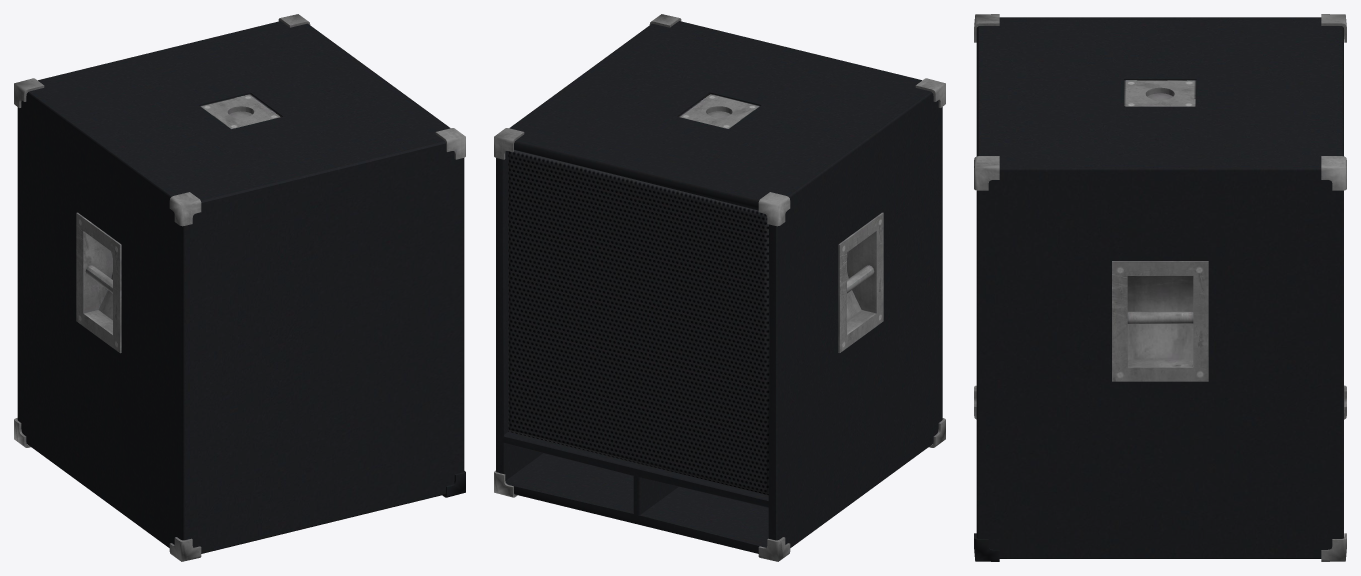
Rendered from Speakers02 (3).fbx.
3 renders of one model, left to right at view 1: azimuth 30°, elevation 25°; view 2: azimuth 150°, elevation 25°; view 3: azimuth 270°, elevation 25°, orthographic. The views are drawn at different scales.
Visible parts, largest first — view 1: Speakers02 (3); view 2: Speakers02 (3); view 3: Speakers02 (3).
Part boxes in pixels (bbox=[...]): Speakers02 (3): bbox=[14, 14, 465, 561]; Speakers02 (3): bbox=[494, 14, 945, 561]; Speakers02 (3): bbox=[974, 14, 1346, 561].
Size of the model in its own units: 0.6253 by 0.6374 by 0.7477.
